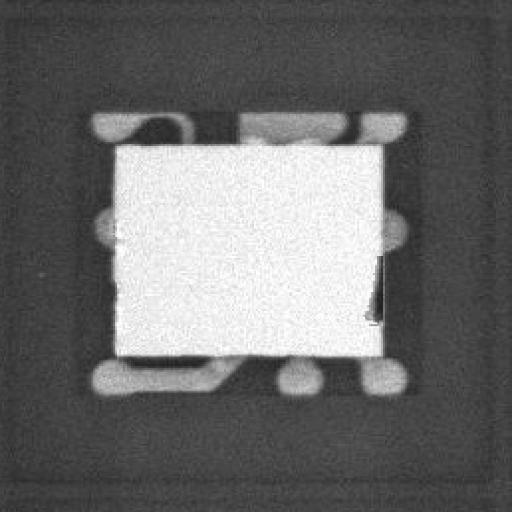DIE_BROKEN: (359, 250, 385, 328)
